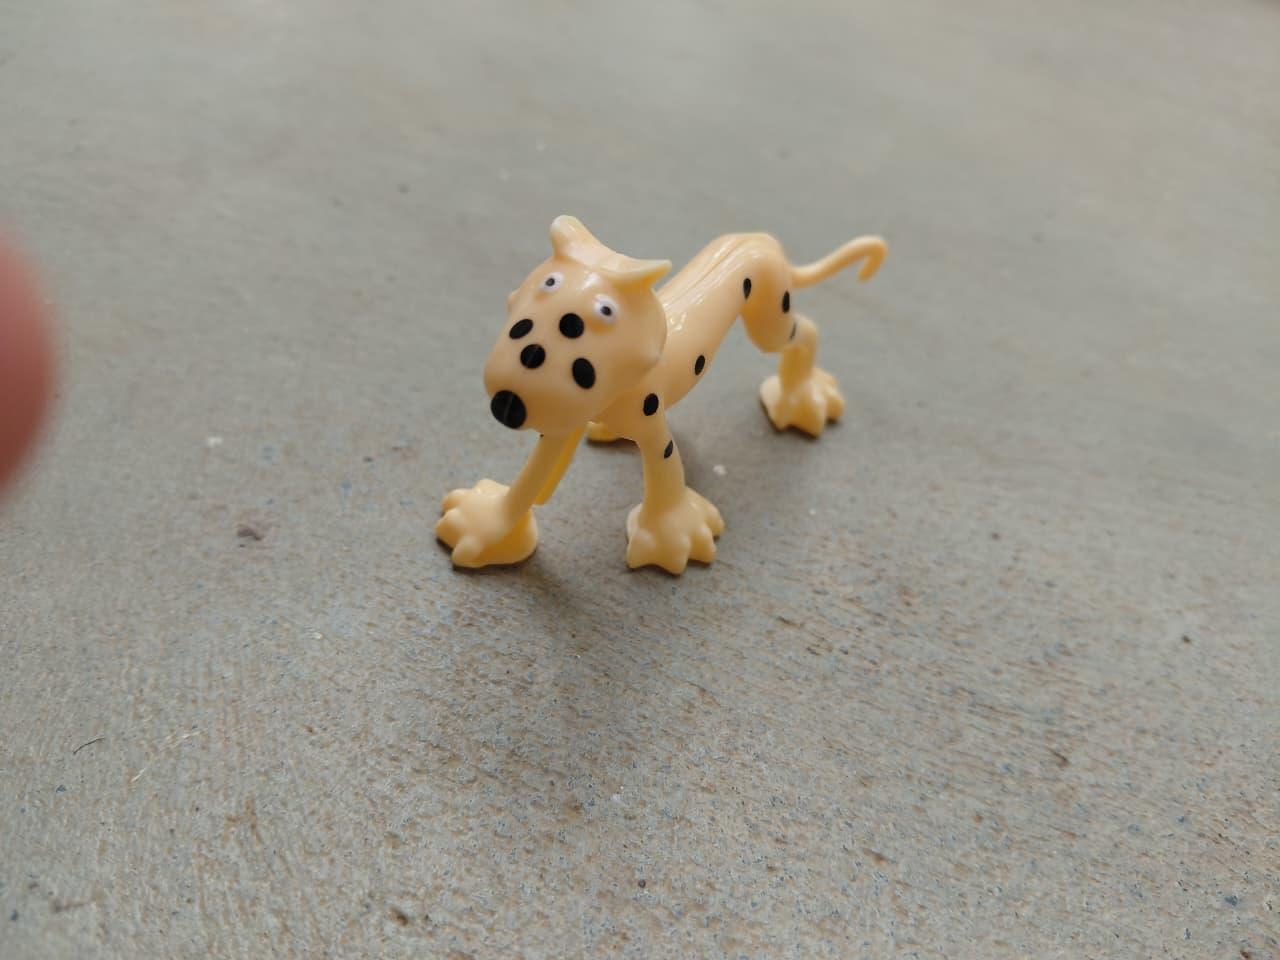cheetah: (424, 181, 901, 591)
